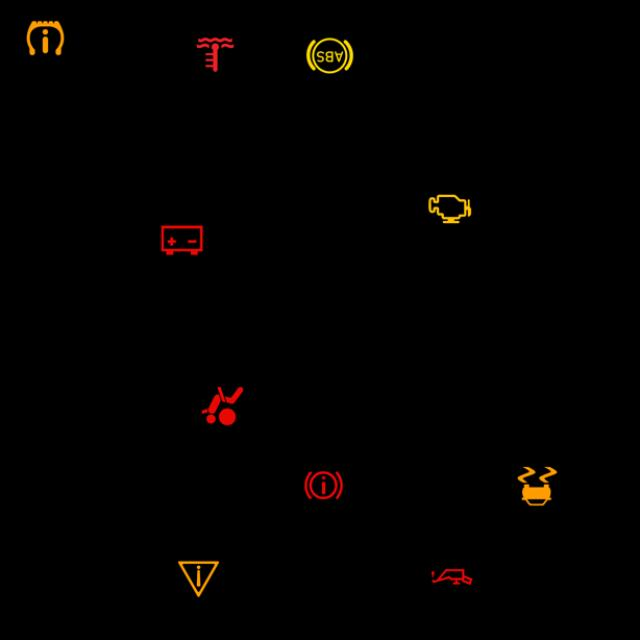Anti Lock Braking System: (304, 30, 356, 81)
Braking System Issue: (298, 460, 349, 510)
Charging System Issue: (156, 215, 208, 266)
Check Engine: (424, 183, 476, 234)
Electronic Stability Problem -ESP-: (512, 461, 563, 512)
Engine Overheating Warning Light: (190, 29, 240, 80)
Low Engine Oil Warning Light: (427, 552, 478, 602)
Low Tire Pressure Warning Light: (20, 12, 71, 64)
Master warning light: (173, 554, 224, 604)
SRS-Airbag: (197, 381, 248, 432)
